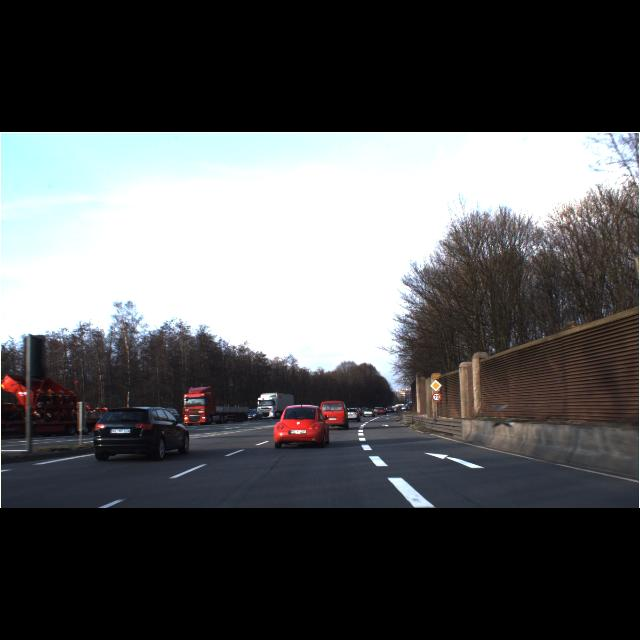other: (430, 380, 442, 392)
prohibitory: (432, 392, 441, 402)
